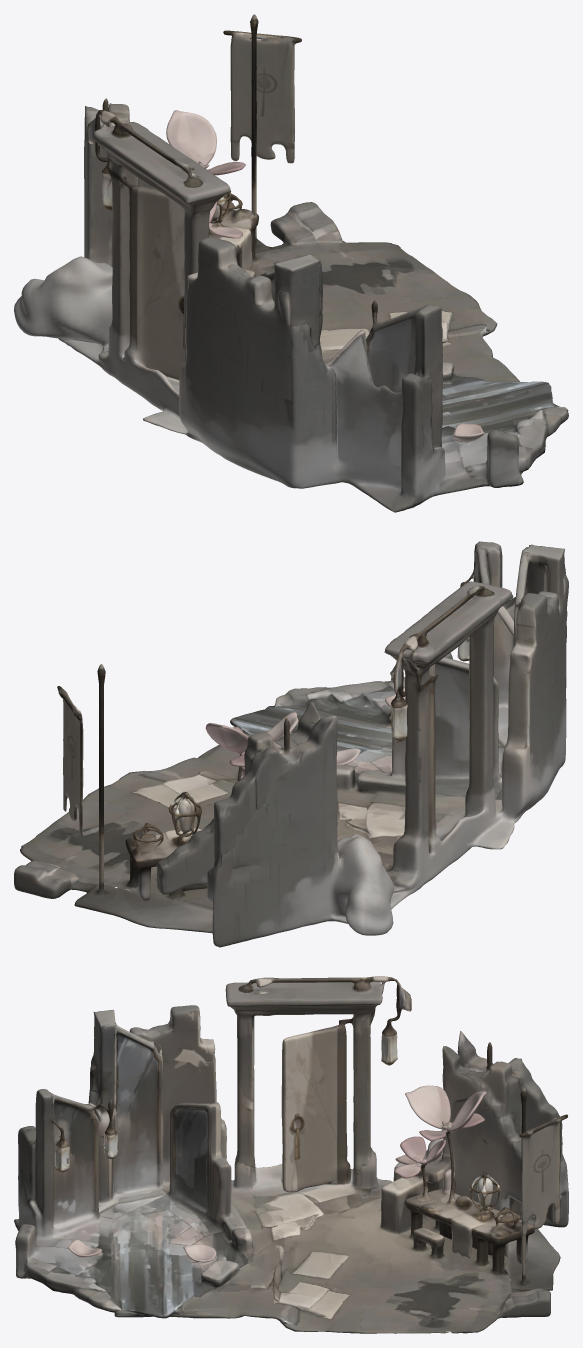
Rendered from dream.glb.
3 renders of one model, top to bottom at view 1: azimuth 30°, elevation 25°; view 2: azimuth 150°, elevation 25°; view 3: azimuth 270°, elevation 25°, orthographic. The views are drawn at different scales.
Parts seen in each view (by area): view 1: tripo_node_88b4c13c; view 2: tripo_node_88b4c13c; view 3: tripo_node_88b4c13c.
Part boxes in pixels (x1,y1,x2,y2): tripo_node_88b4c13c: (14, 14, 568, 512); tripo_node_88b4c13c: (14, 541, 568, 947); tripo_node_88b4c13c: (14, 976, 568, 1333).
Bounding box in the file's own units: 64.52 × 43.32 × 97.68.
1 material, 1 textured.
